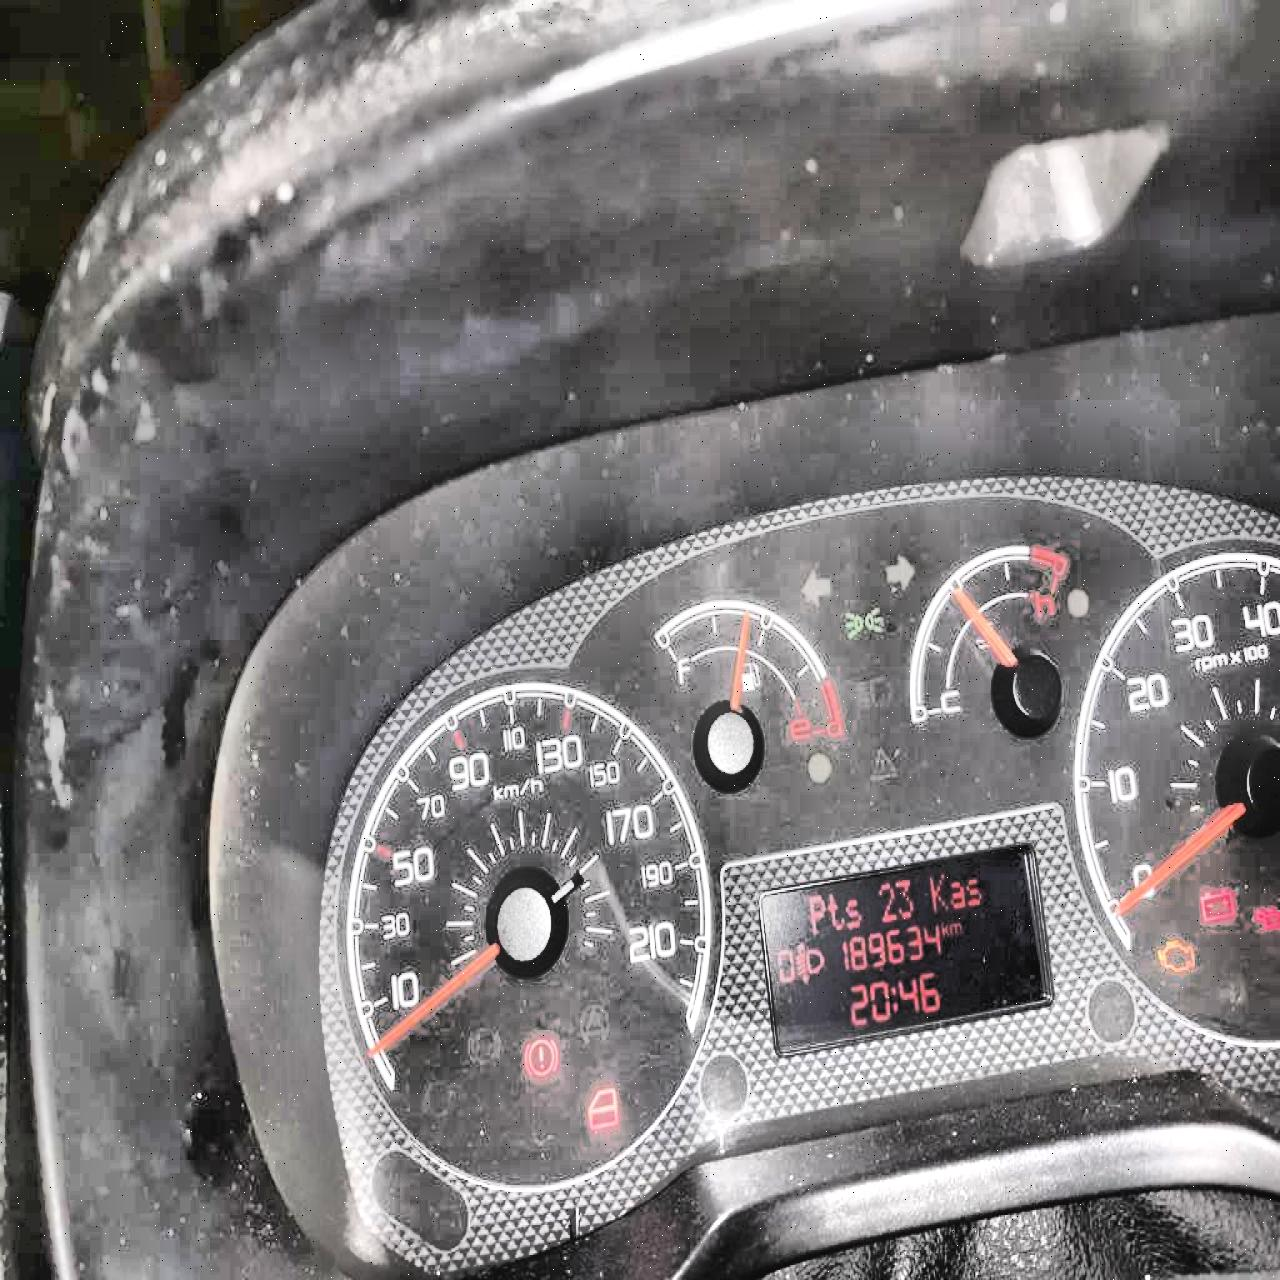0: (869, 979, 890, 1022), (776, 948, 794, 983)
1: (840, 938, 849, 972)
2: (876, 880, 896, 924), (849, 983, 867, 1027)
3: (894, 877, 914, 918), (905, 924, 922, 960)
4: (897, 975, 919, 1012), (922, 921, 941, 953)
6: (918, 969, 939, 1013), (885, 926, 904, 961)
8: (847, 934, 866, 968)
9: (866, 931, 885, 967)
X: (927, 870, 948, 913), (808, 893, 825, 933), (826, 892, 844, 928), (844, 899, 863, 928), (965, 877, 981, 906), (949, 880, 965, 910), (948, 920, 961, 935), (890, 985, 896, 1013), (940, 920, 949, 937)
odometer: (756, 838, 1054, 1060)
